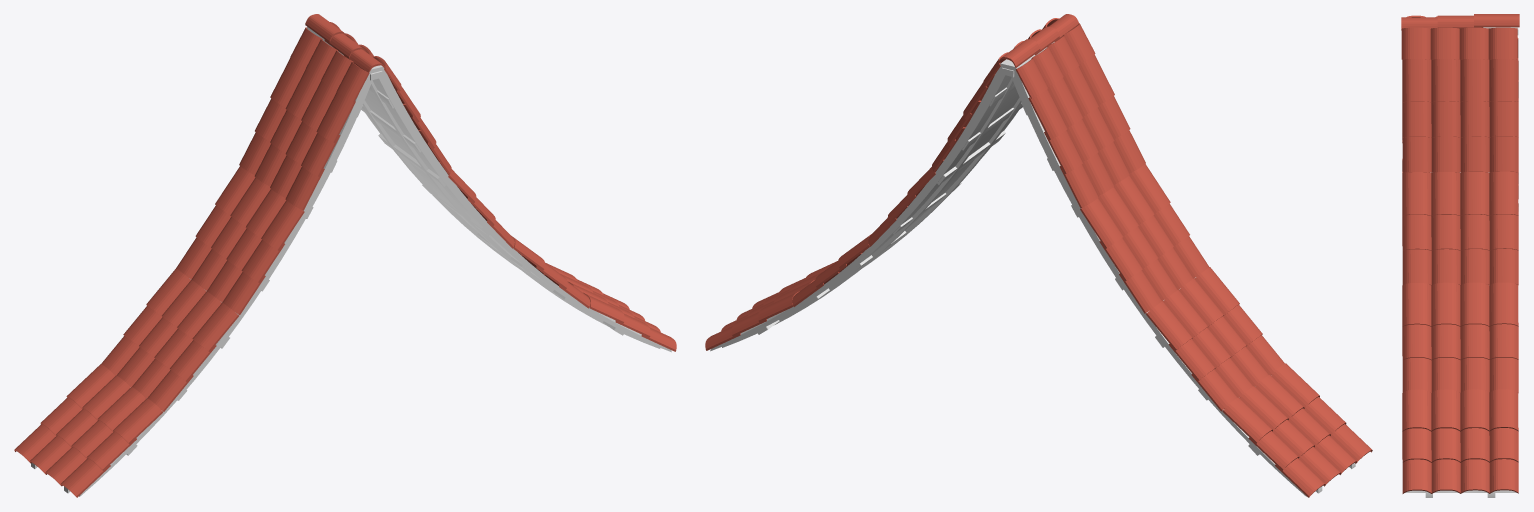
Rendered from L_Roof_NoFrame.fbx.
3 renders of one model, left to right at view 1: azimuth 30°, elevation 25°; view 2: azimuth 150°, elevation 25°; view 3: azimuth 270°, elevation 25°, orthographic. The views are drawn at different scales.
Parts seen in each view (by area): view 1: L_Roof_Tiles, L_Roof_NoFrame, Cube.011; view 2: L_Roof_Tiles, L_Roof_NoFrame, Cube.011; view 3: L_Roof_Tiles, L_Roof_NoFrame.
Boxes of the visible parts, x1,y1,x2,y2 form: L_Roof_Tiles: (14,14,676,497); L_Roof_NoFrame: (31,27,671,496); Cube.011: (126,71,624,455); L_Roof_Tiles: (705,14,1372,497); L_Roof_NoFrame: (710,42,1355,496); Cube.011: (756,67,1259,455); L_Roof_Tiles: (1401,14,1519,493); L_Roof_NoFrame: (1405,27,1517,497).
Bounding box in the file's own units: 1965 × 1145 × 354.
